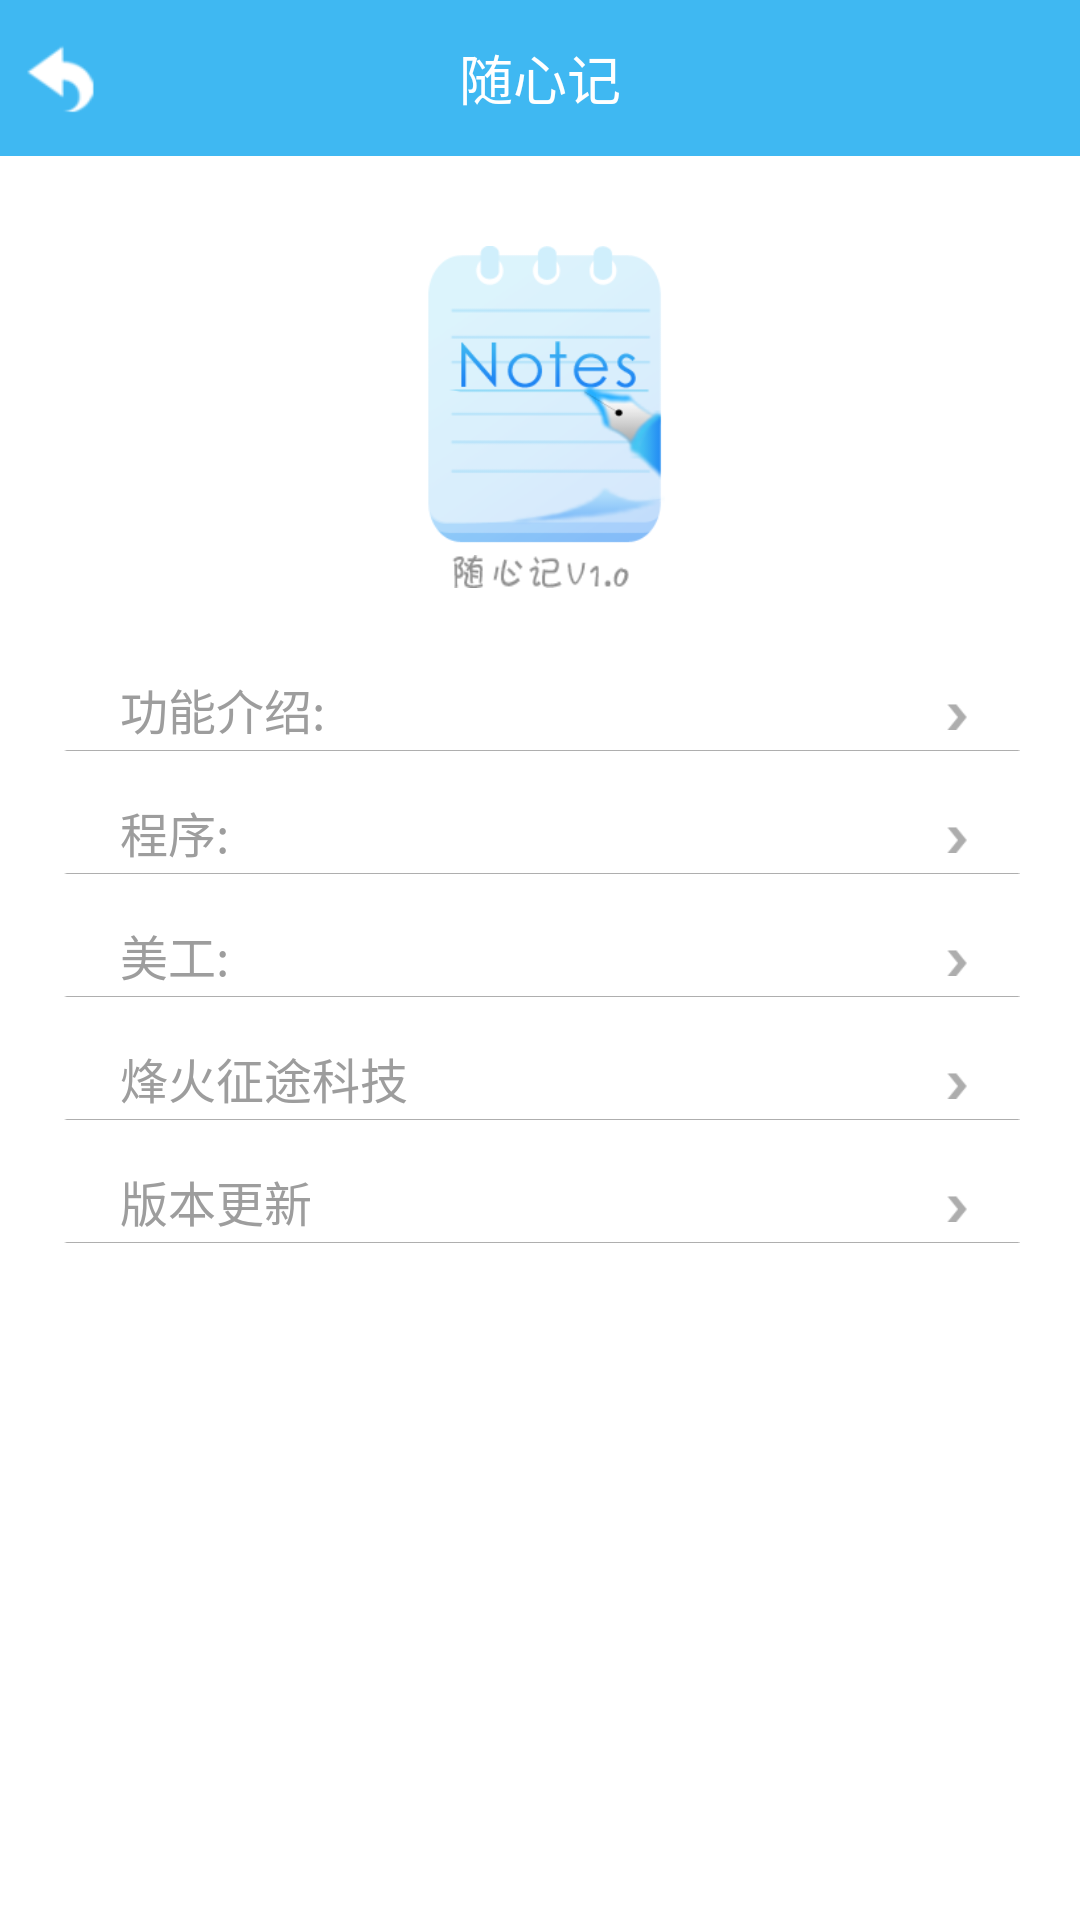

Where icons sit on this 1080px×1920px app screen, as (x1, y1, x2, y2):
select back: (27, 47, 94, 112)
